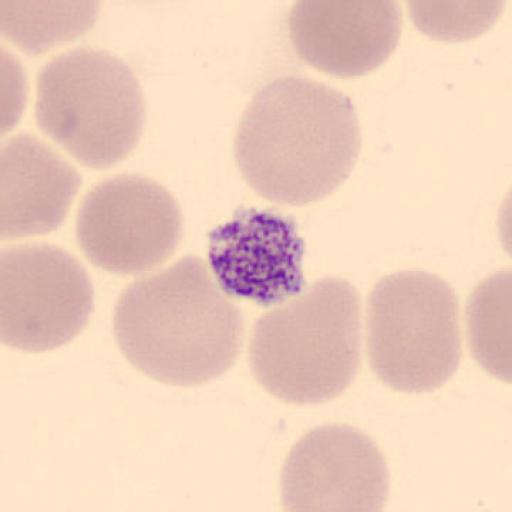Platelet: (202, 204, 311, 312)
RBC: (110, 254, 246, 391), (230, 74, 366, 210), (240, 272, 367, 408), (31, 44, 148, 170), (363, 264, 465, 398), (74, 171, 188, 279), (0, 237, 98, 355), (274, 419, 396, 512), (284, 0, 406, 78), (0, 133, 88, 241), (463, 268, 512, 392), (0, 0, 102, 52), (406, 0, 510, 30), (0, 47, 30, 141)
